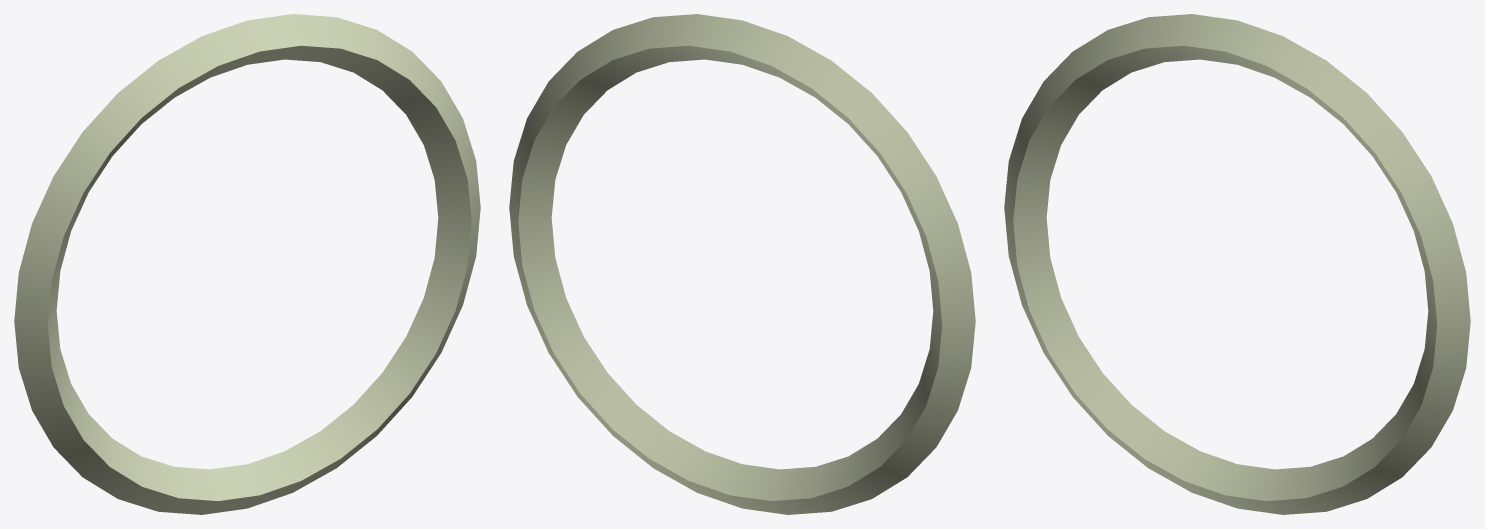
The model's file is ring.obj.
3 views of the same model, side by side, from view 1: azimuth 30°, elevation 25°; view 2: azimuth 150°, elevation 25°; view 3: azimuth 330°, elevation 25° (orthographic).
Visible parts, largest first — view 1: Torus1; view 2: Torus1; view 3: Torus1.
Boxes of the visible parts, x1,y1,x2,y2 form: Torus1: (14,14,480,514); Torus1: (509,14,975,514); Torus1: (1004,14,1470,514).
Size of the model in its own units: 4.4 by 4.4 by 0.4.
